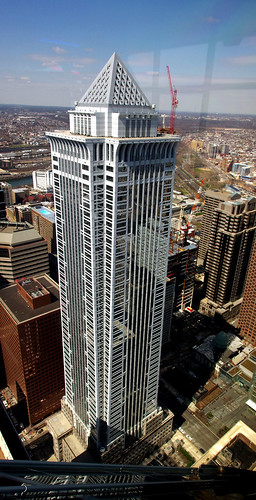medium: (44, 47, 182, 458)
